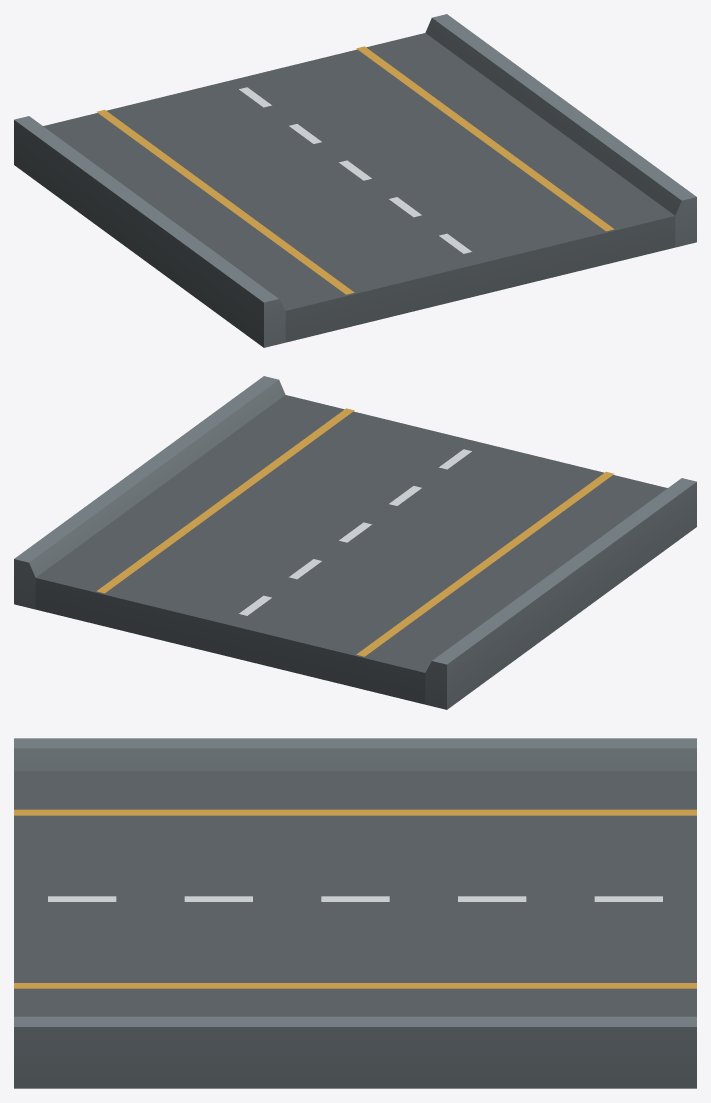
The model's file is straight_road.fbx.
The picture shows the model from 3 angles, top to bottom: view 1: azimuth 30°, elevation 25°; view 2: azimuth 150°, elevation 25°; view 3: azimuth 270°, elevation 25°; orthographic projection. The views are drawn at different scales.
Visible parts, largest first — view 1: road_straight; view 2: road_straight; view 3: road_straight.
Boxes of the visible parts, box(x1,y1,x2,y2) form: road_straight: box(14, 14, 696, 347); road_straight: box(14, 376, 696, 709); road_straight: box(14, 738, 696, 1088).
Size of the model in its own units: 100 by 10 by 100.
1 material, 1 textured.
